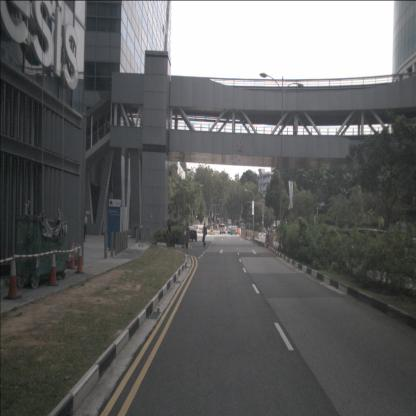human-pedestrian-adult: (166, 218, 172, 248), (82, 212, 88, 242), (184, 222, 190, 249), (202, 222, 207, 249)
movable_object-barrier: (247, 230, 254, 241), (244, 230, 249, 239), (241, 229, 244, 238), (238, 228, 241, 236)
movable_object-trafficcone: (3, 250, 21, 300), (46, 246, 60, 287), (74, 242, 86, 275), (67, 239, 78, 271)
vehicle-bus-rigid: (234, 220, 239, 230)
vehicle-car: (185, 226, 197, 242), (220, 224, 226, 234), (230, 226, 236, 235), (228, 226, 233, 235)
vehicle-truck: (270, 221, 288, 238), (238, 220, 246, 232), (227, 220, 232, 230)
